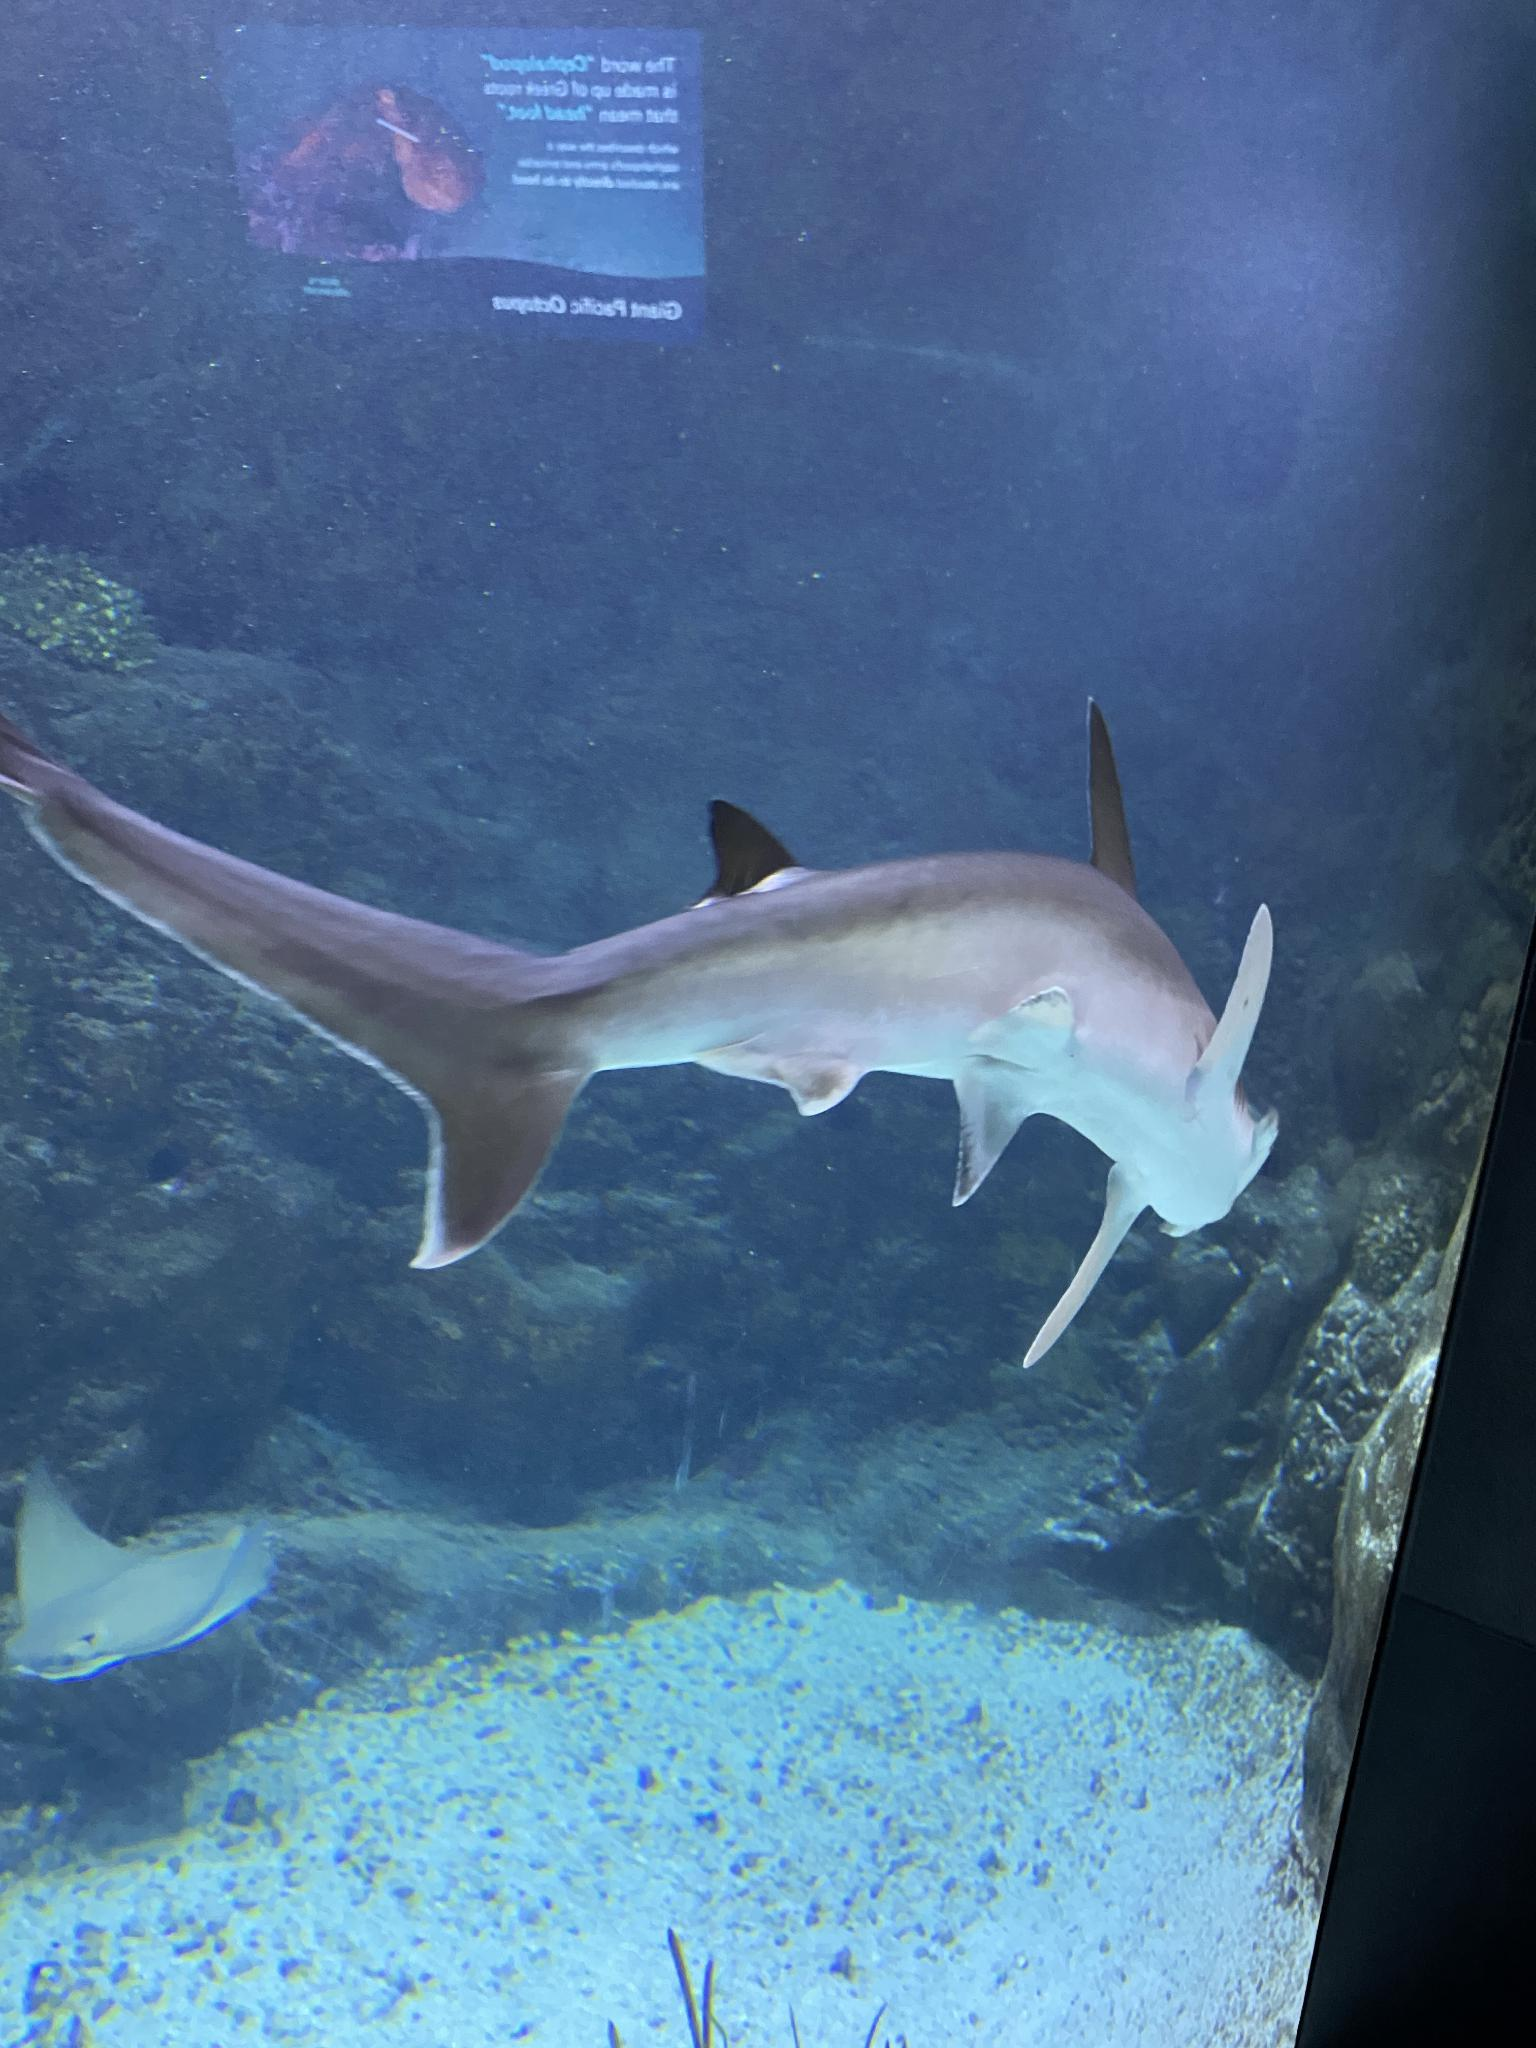shark: (3, 693, 1286, 1371)
stingray: (0, 1459, 269, 1687)
